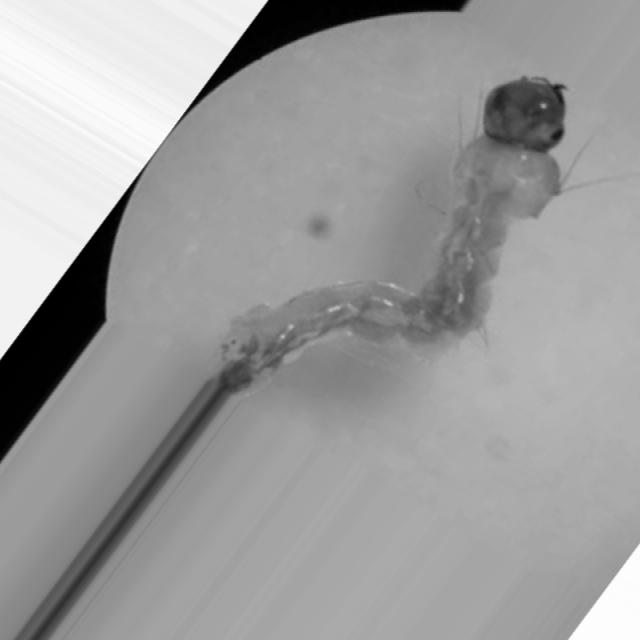larvas: (249, 80, 563, 365)
